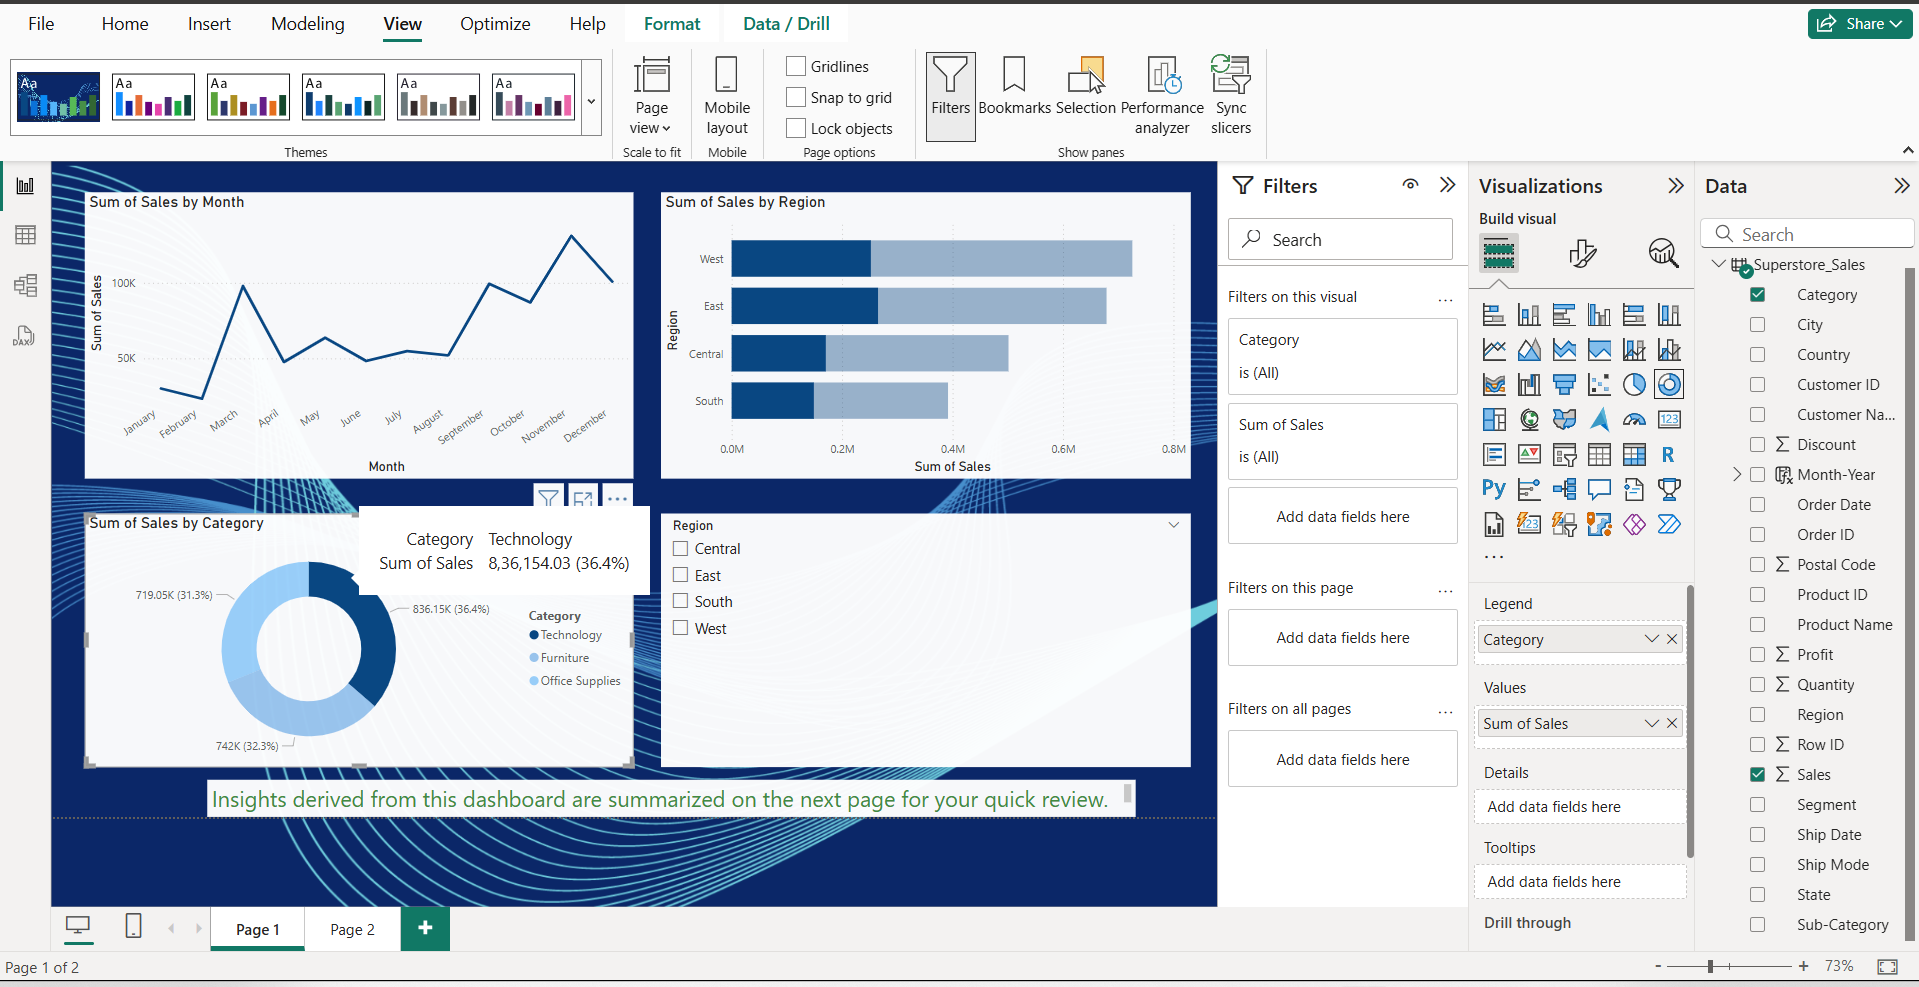

Layout of this report page (visuals, bound fields, positions):
{"tool":"powerbi","page":{"name":"Page 1","canvas":[1280,720],"ordinal":0},"visuals":[{"type":"lineChart","fields":{"Y":["Sum(Superstore_Sales.Sales)"],"Category":["Superstore_Sales.Month-Year.Variation.Date Hierarchy.Month"]},"box":[37,34.3,602.4,314.2],"z":0},{"type":"barChart","fields":{"Y":["Sum(Superstore_Sales.Sales)"],"Category":["Superstore_Sales.Region"]},"box":[669.6,34.3,581.8,314.2],"z":1000},{"type":"donutChart","fields":{"Y":["Sum(Superstore_Sales.Sales)"],"Category":["Superstore_Sales.Category"]},"box":[37,387,602.4,278.6],"z":2000},{"type":"slicer","fields":{"Values":["Superstore_Sales.Region"]},"box":[669.6,387,581.8,278.6],"z":3000},{"type":"textbox","box":[171.5,679.2,1019.6,41.2],"z":3001}]}

Visuals, with their boxes on the page's 1280x720 design canvas (x1, y1, x2, y2). These are canvas units, not pixel positions in the 1919x987 screenshot, which may show the page scaled, cropped or inside an application window:
lineChart - Sum(Superstore_Sales.Sales) x Superstore_Sales.Month-Year.Variation.Date Hierarchy.Month: rect(37, 34, 639, 348)
barChart - Sum(Superstore_Sales.Sales) x Superstore_Sales.Region: rect(670, 34, 1251, 348)
donutChart - Sum(Superstore_Sales.Sales) x Superstore_Sales.Category: rect(37, 387, 639, 666)
slicer - Superstore_Sales.Region: rect(670, 387, 1251, 666)
textbox: rect(172, 679, 1191, 720)
